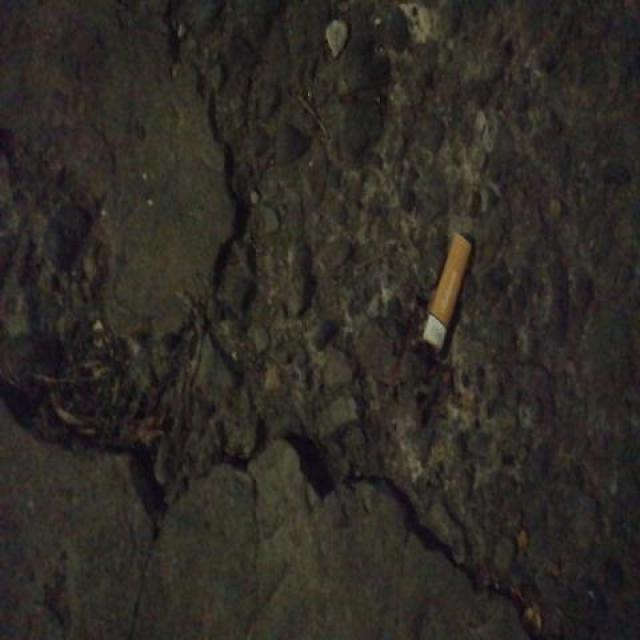non-organic waste: (419, 228, 473, 353)
